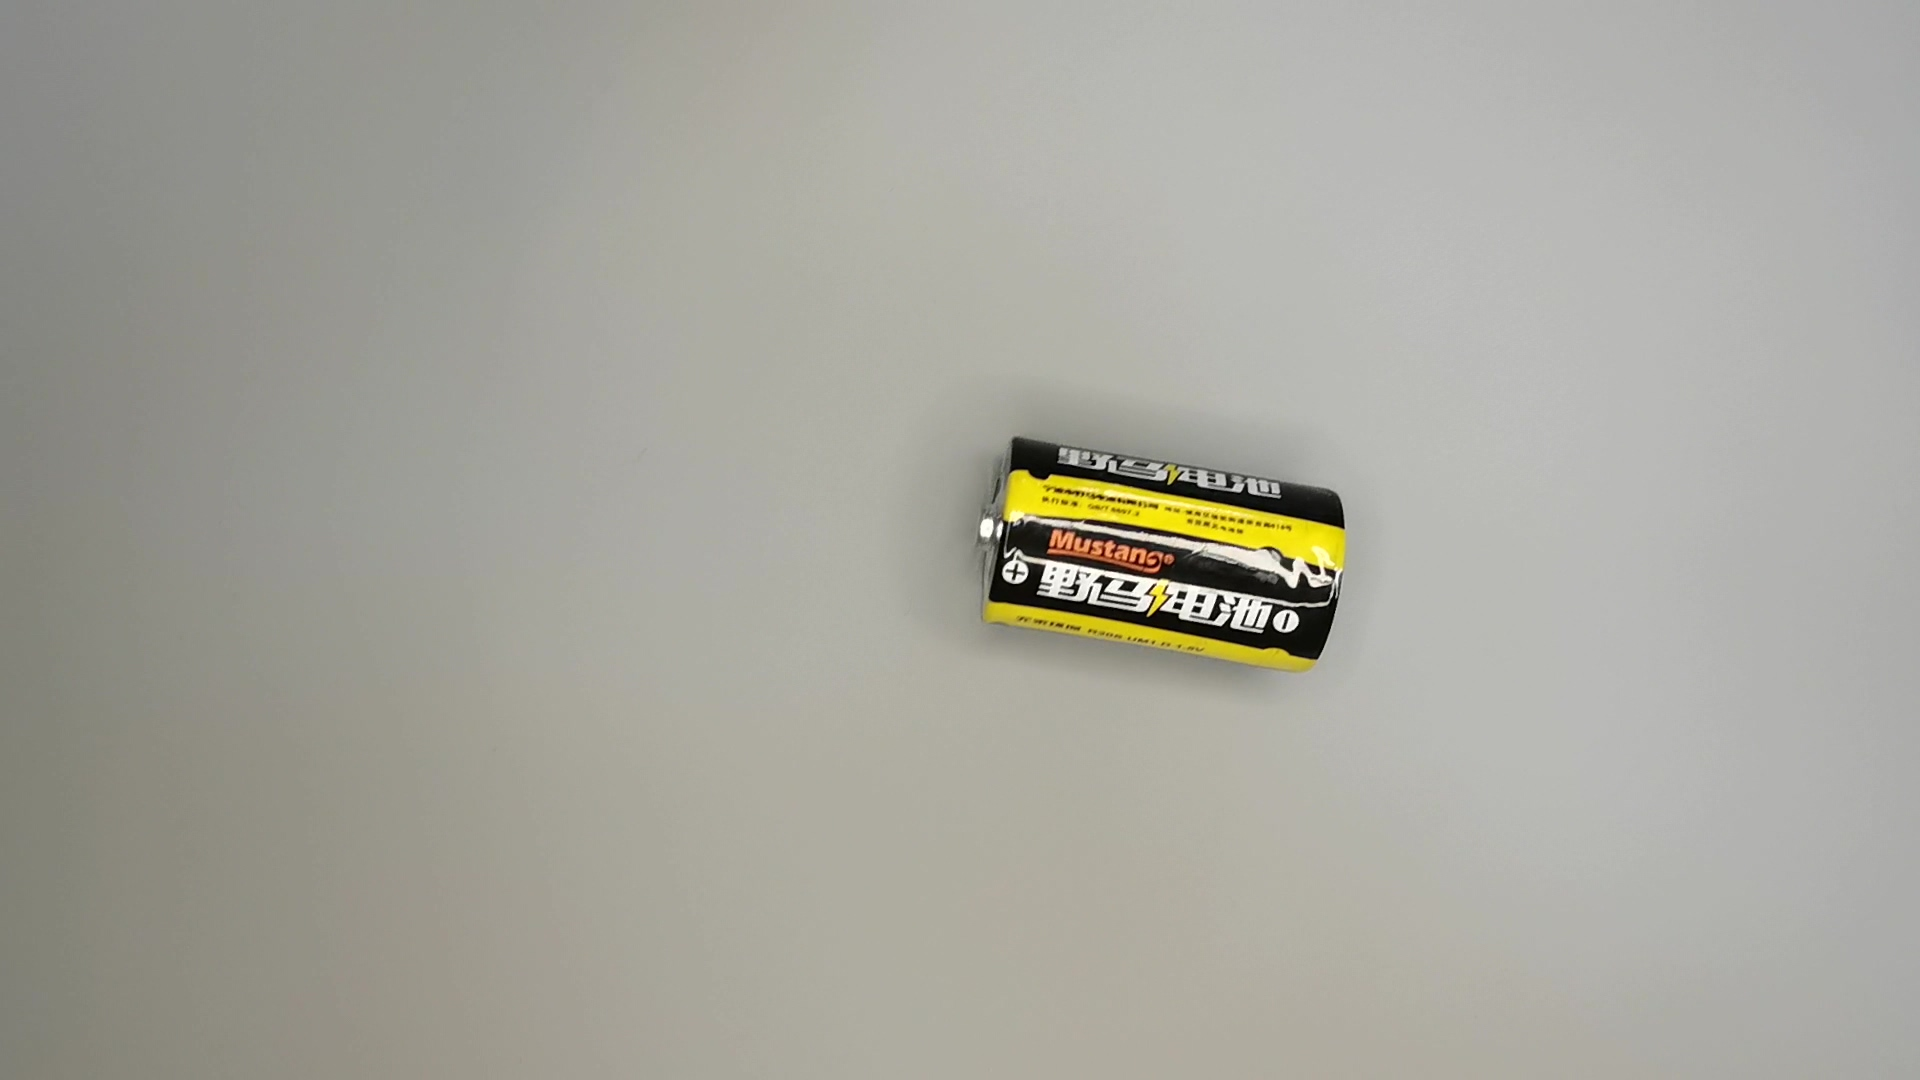battery: (971, 430, 1352, 680)
